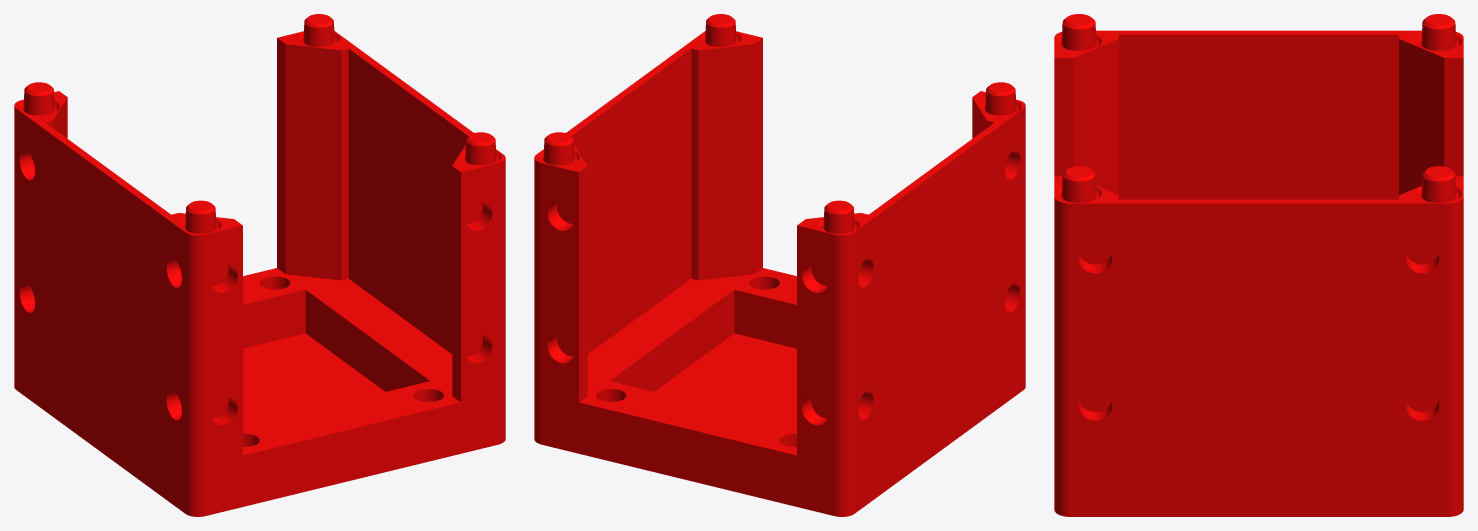
File: Cube 1x1 V5_Cube 1x1 Bottom V5 Closed.obj
3 renders of one model, left to right at view 1: azimuth 30°, elevation 25°; view 2: azimuth 150°, elevation 25°; view 3: azimuth 270°, elevation 25°, orthographic. The views are drawn at different scales.
Parts seen in each view (by area): view 1: Solid1:3; view 2: Solid1:3; view 3: Solid1:3.
Boxes of the visible parts, x1=… form: Solid1:3: x1=14, y1=14, x2=505, y2=516; Solid1:3: x1=534, y1=14, x2=1025, y2=516; Solid1:3: x1=1054, y1=14, x2=1463, y2=516.
Bounding box in the file's own units: 49.8 × 44.97 × 49.8.
